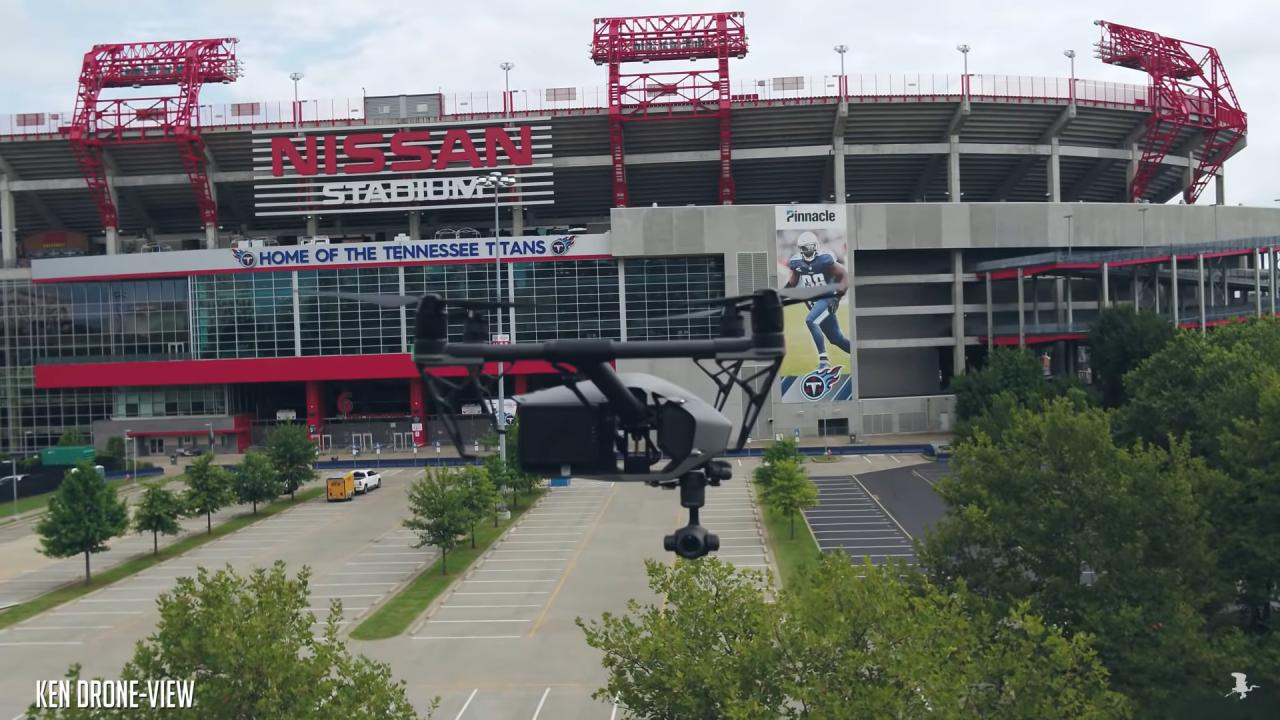Drone: (310, 265, 872, 573)
